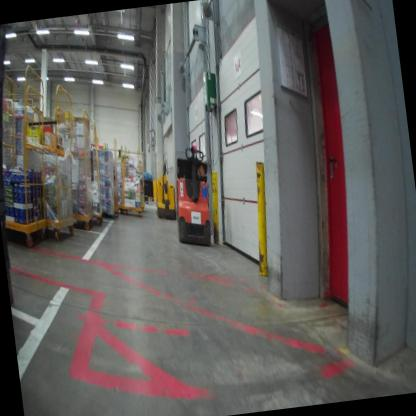pallet_truck: (166, 141, 218, 257), (148, 156, 180, 227)
